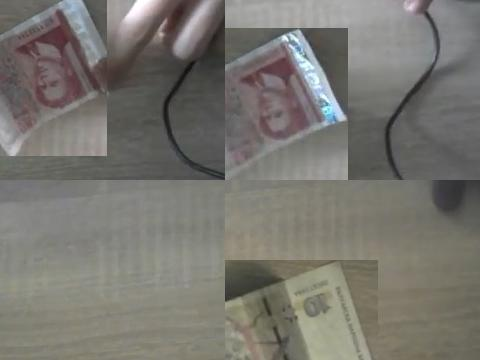10leva: (225, 260, 374, 360)
5leva: (225, 28, 348, 180)
